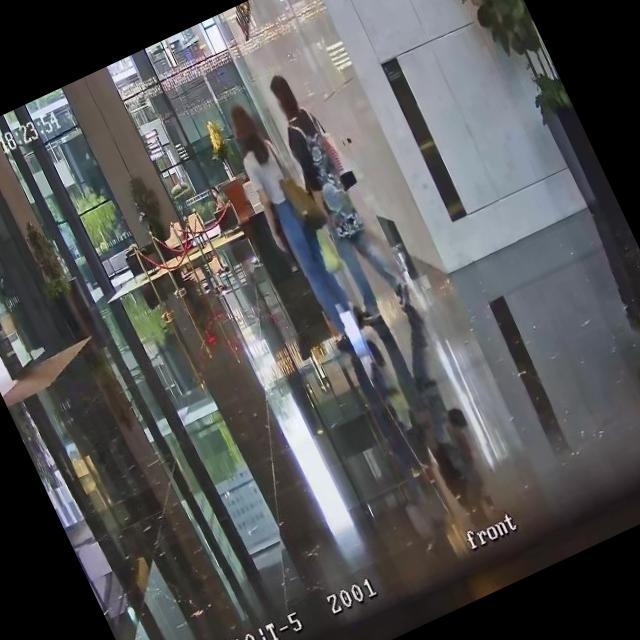person: (257, 62, 420, 330), (216, 92, 368, 350), (206, 184, 227, 211)
